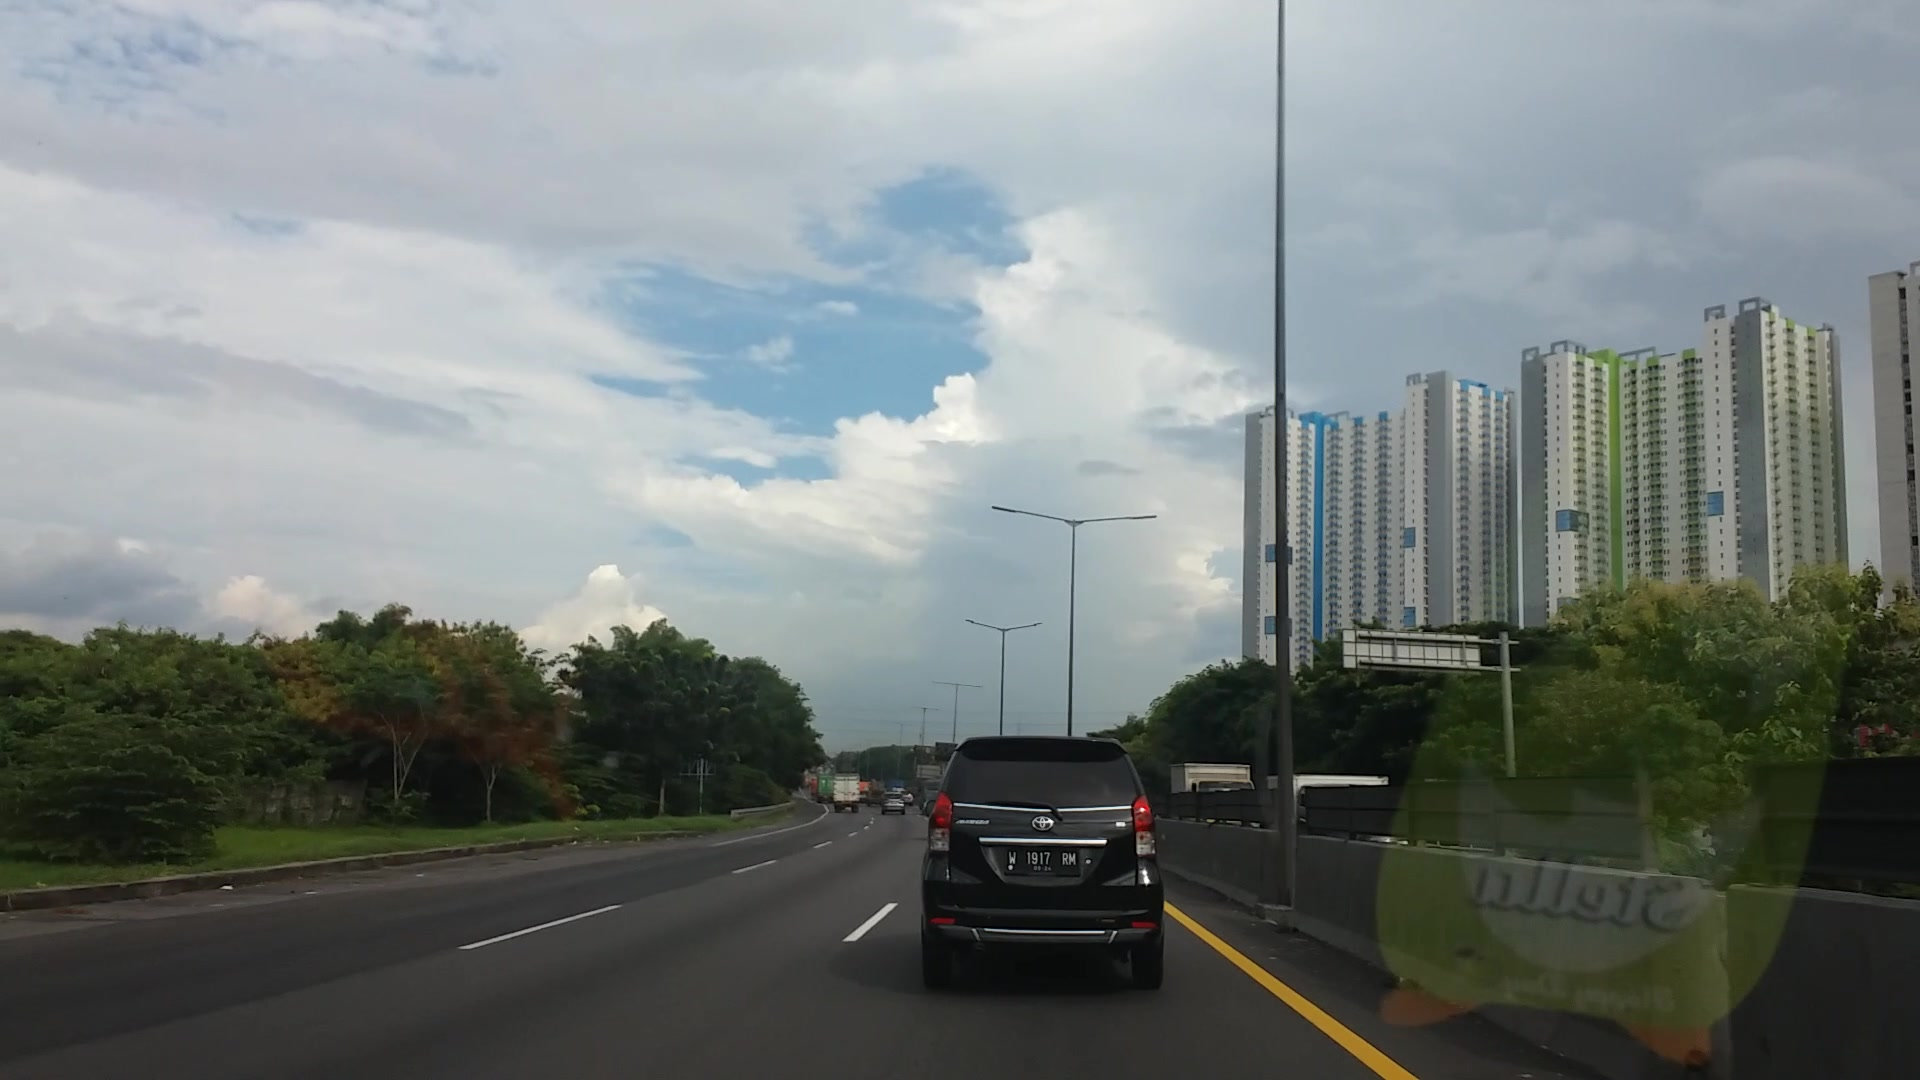plate_positive: (1004, 847, 1080, 876)
